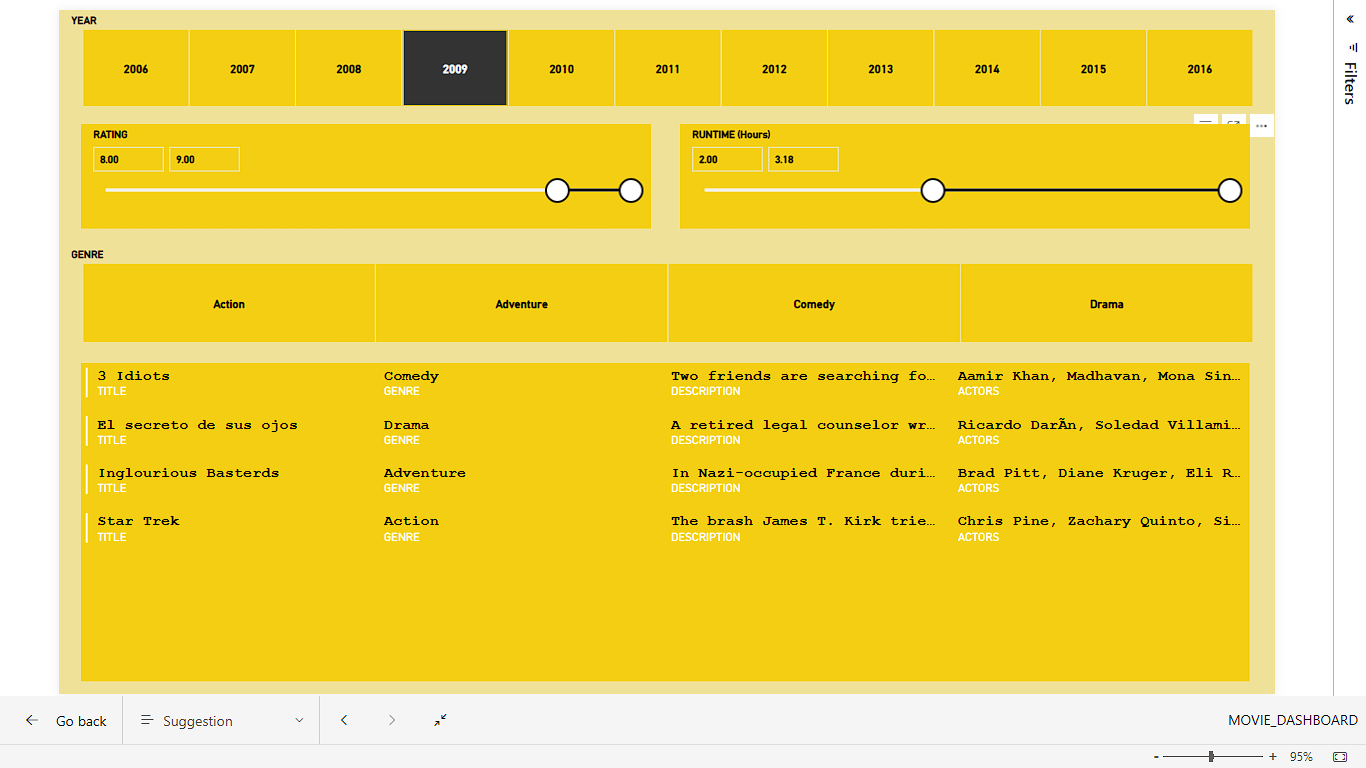

The page's visual inventory and layout, read from the dashboard file:
{"tool":"powerbi","page":{"name":"Suggestion","canvas":[1280,720],"ordinal":2},"visuals":[{"type":"slicer","fields":{"Values":["IMDb Movie.YEAR"]},"box":[0,0,1280,108],"z":0},{"type":"slicer","fields":{"Values":["IMDb Movie.RATING"]},"box":[23.3,120,600,110],"z":1000},{"type":"multiRowCard","fields":{"Values":["IMDb Movie.TITLE","IMDb Movie.GENRE","IMDb Movie.DESCRIPTION","IMDb Movie.ACTORS"]},"box":[23.3,371.7,1230,335],"z":2000},{"type":"slicer","fields":{"Values":["IMDb Movie.RUNTIME (Hours)"]},"box":[653.3,120,600,110],"z":3000},{"type":"slicer","fields":{"Values":["IMDb Movie.GENRE"]},"box":[0,246.7,1280,110],"z":4000}]}

Visuals, with their boxes on the page's 1280x720 design canvas (x1, y1, x2, y2). These are canvas units, not pixel positions in the 1366x768 screenshot, which may show the page scaled, cropped or inside an application window:
slicer - IMDb Movie.YEAR: bbox=[0, 0, 1280, 108]
slicer - IMDb Movie.RATING: bbox=[23, 120, 623, 230]
multiRowCard - IMDb Movie.TITLE x IMDb Movie.GENRE: bbox=[23, 372, 1253, 707]
slicer - IMDb Movie.RUNTIME (Hours): bbox=[653, 120, 1253, 230]
slicer - IMDb Movie.GENRE: bbox=[0, 247, 1280, 357]
